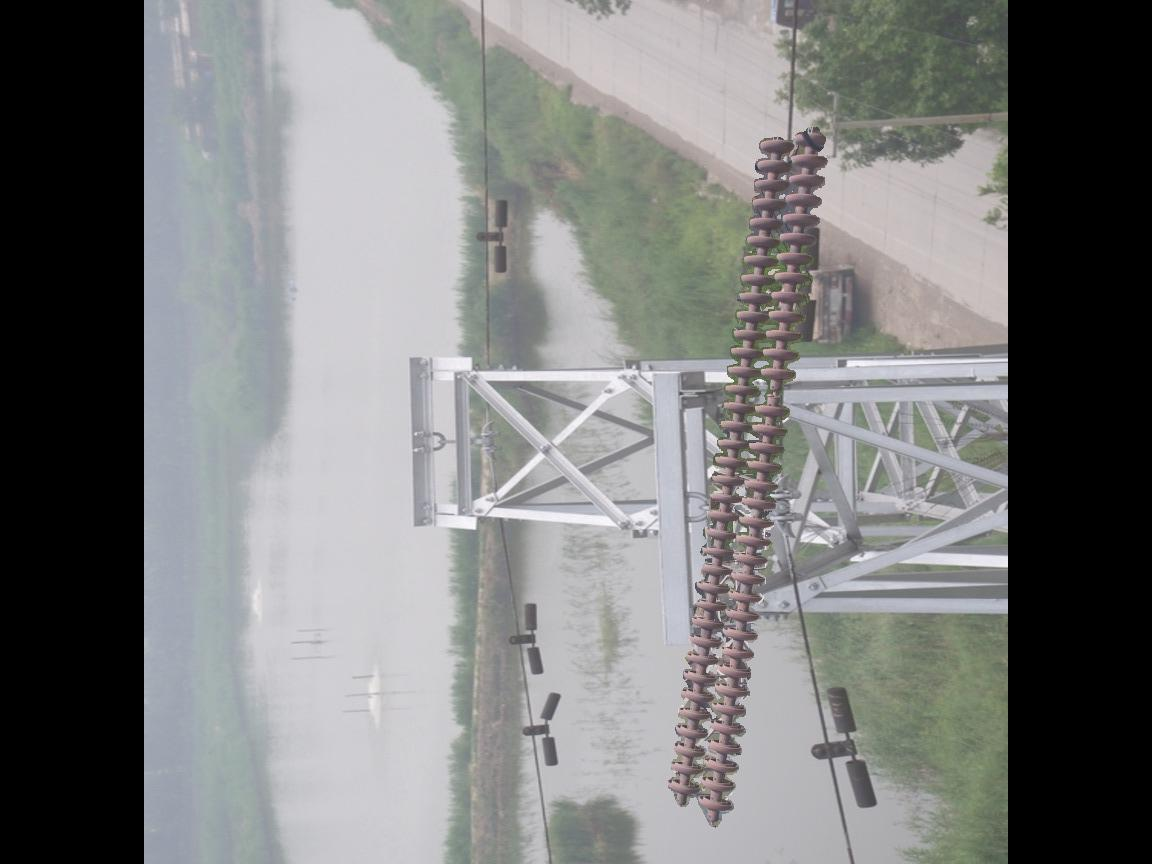insulator: (665, 124, 835, 828)
insulator_stringdrop: (750, 364, 798, 421)
